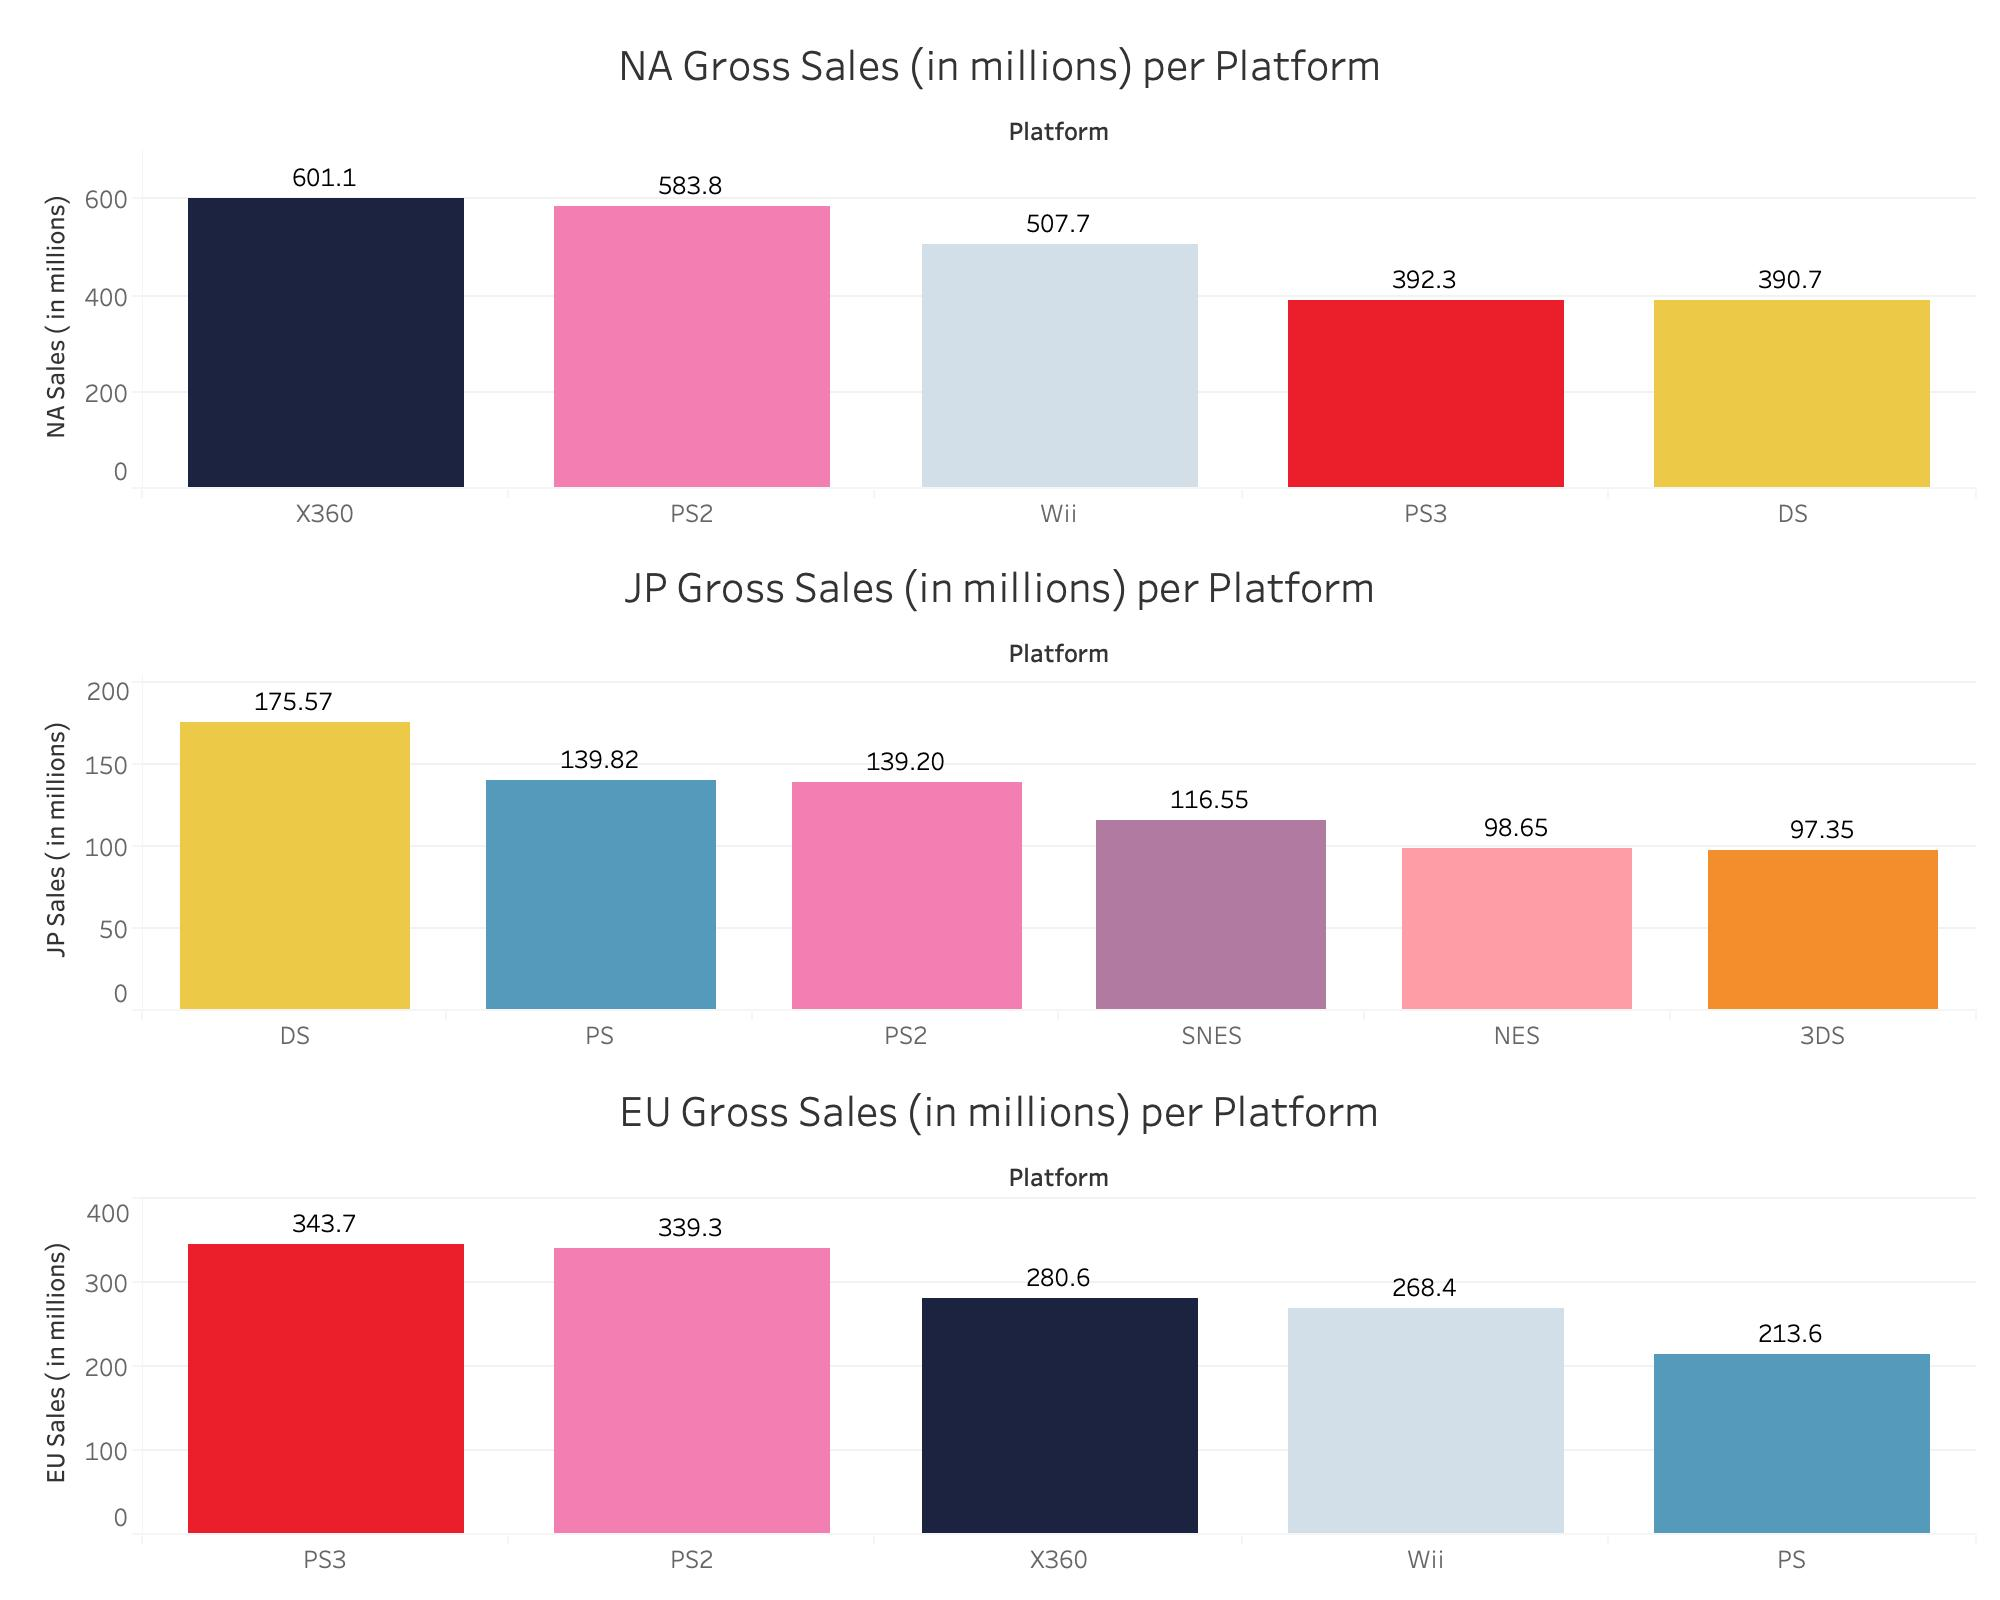

This screenshot's page, from the dashboard's own definition file:
{"tool":"tableau","page":{"name":"Dashboard 1","canvas":[1000,800],"ordinal":0},"visuals":[{"type":"worksheet","title":"NA/Platform","mark":"Automatic","rows":["NA_Sales"],"cols":["Platform"],"box":[8,8,984,261.3]},{"type":"worksheet","title":"JP/Platform","mark":"Automatic","rows":["JP_Sales"],"cols":["Platform"],"box":[8,269.3,984,261.3]},{"type":"worksheet","title":"EU/Platform","mark":"Automatic","rows":["EU_Sales"],"cols":["Platform"],"box":[8,530.7,984,261.3]}]}

Visuals, with their boxes in screenshot pixels (x1, y1, x2, y2), scaled from the page's 1000x800 canvas onto the 2000x1600 screenshot:
"NA/Platform" worksheet: 16/16/1984/539
"JP/Platform" worksheet: 16/539/1984/1061
"EU/Platform" worksheet: 16/1061/1984/1584
